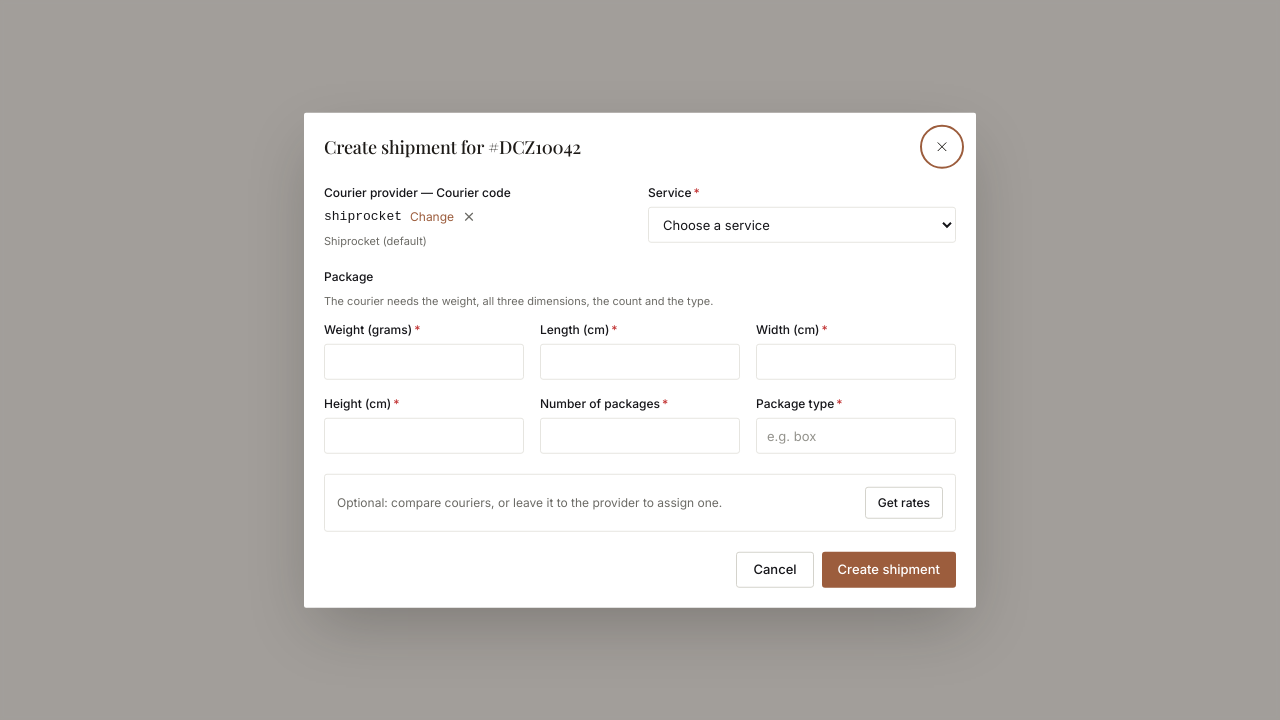
CreateShipmentDialog › the form › needs a service and the full package for an API courier, and sends nothing until then
Click the button "Create shipment" at (889,569), box [822,551,956,587]
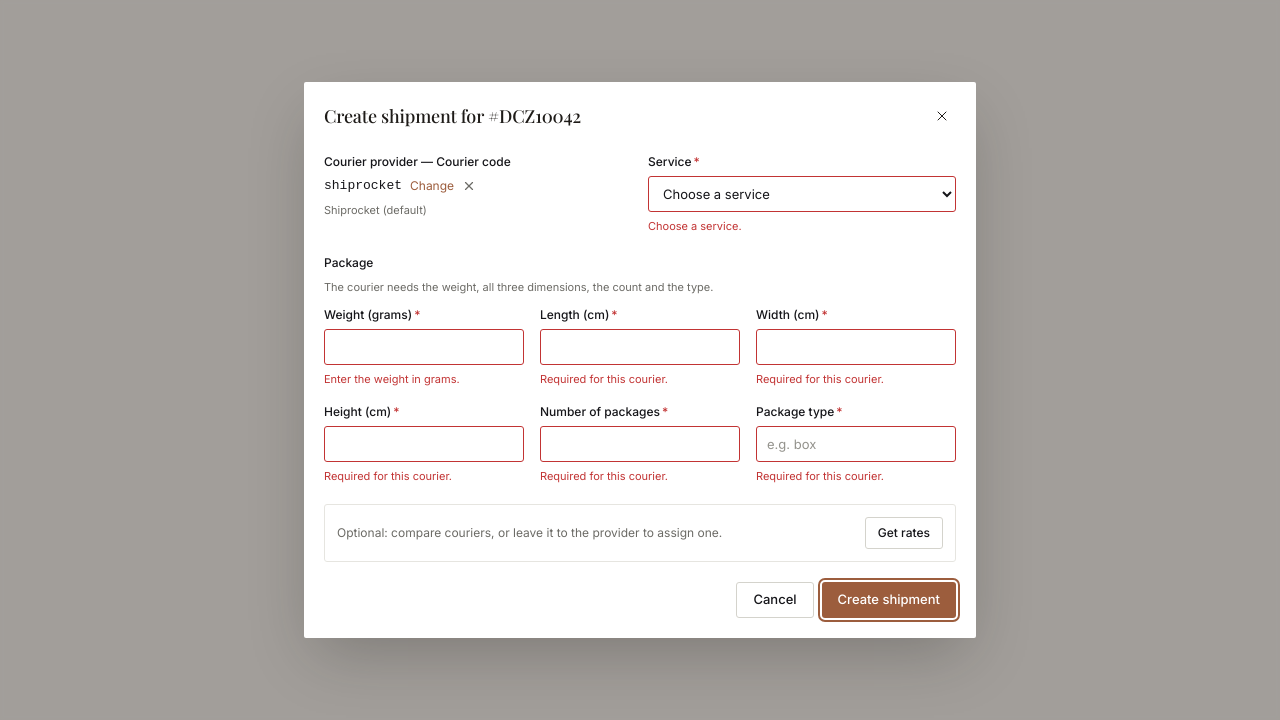
Now the text "Choose a service." is shown, box [648,219,742,233]
Now the text "Enter the weight in grams." is shown, box [324,372,460,386]
Now the text "Required for this courier." is shown 5 times, box [540,372,668,386]; [756,372,884,386]; [324,468,452,482]; [540,468,668,482]; [756,468,884,482]
Select "Express" in the dropdown labelled "Service*" at (802,194), box [648,176,956,212]
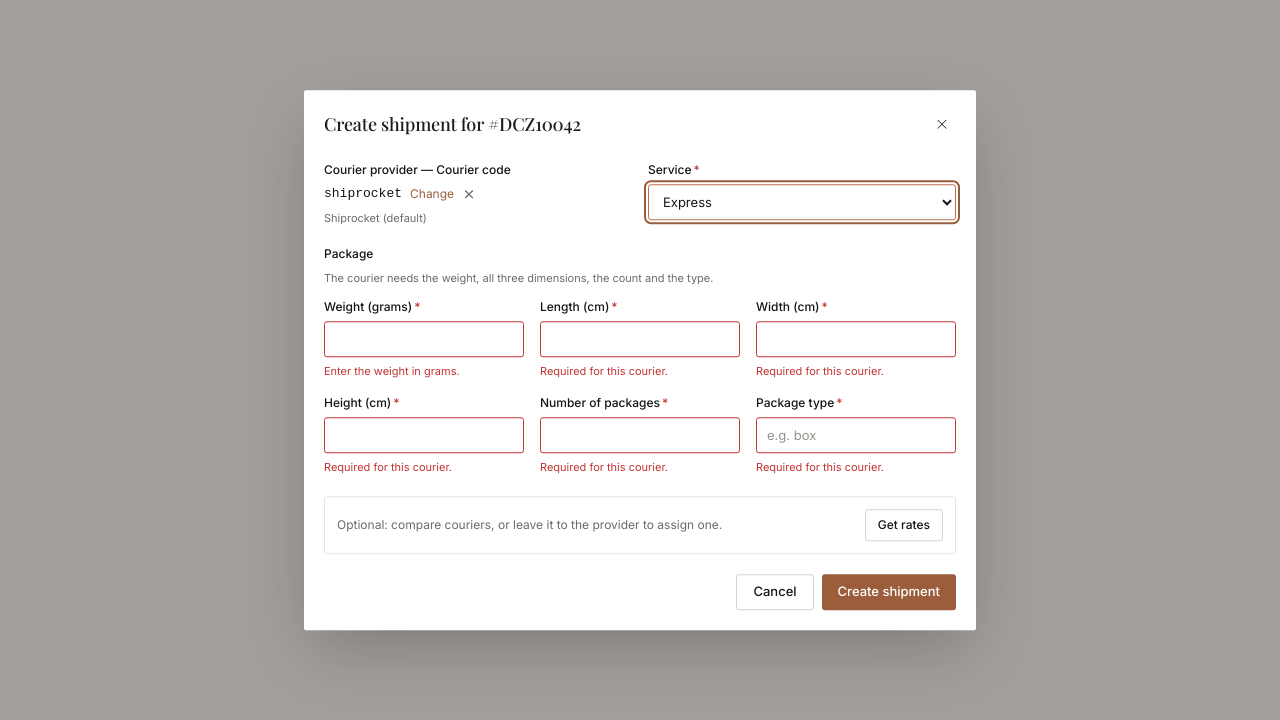
Now the text "Choose a service." is gone
